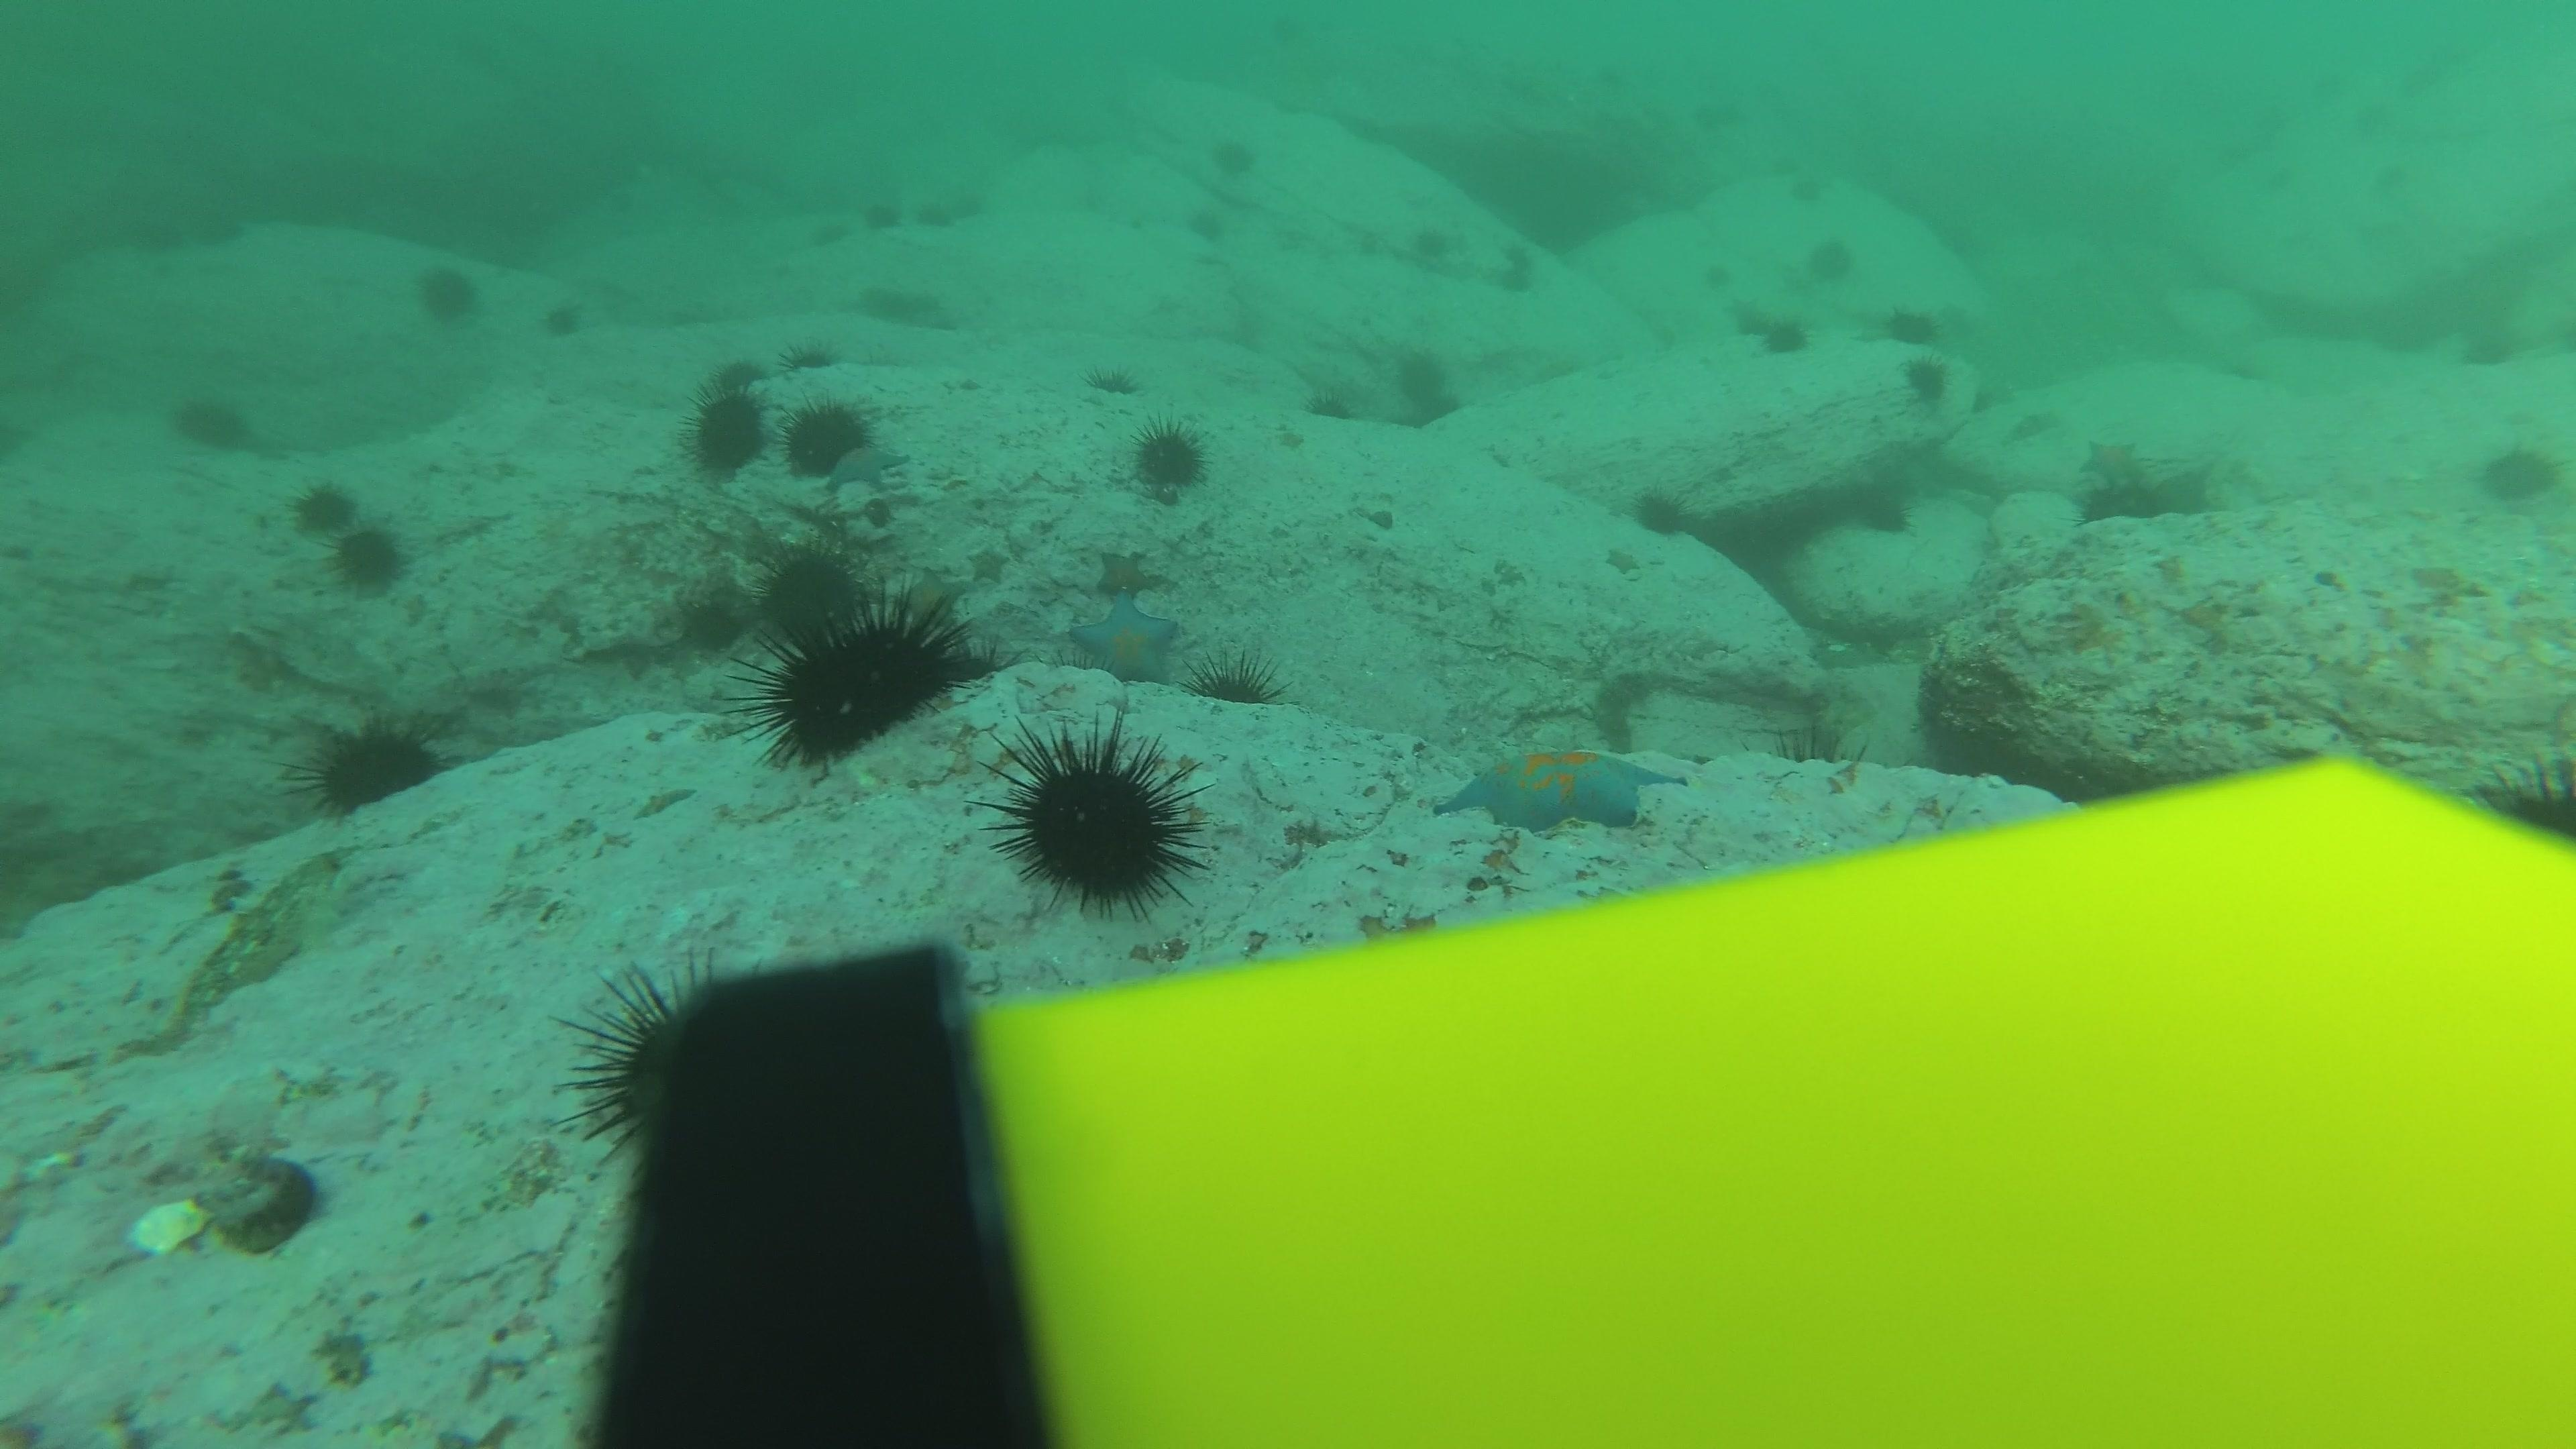echinus: (568, 955, 777, 1168), (741, 587, 975, 770), (991, 722, 1203, 916), (297, 713, 446, 819), (311, 494, 410, 594), (757, 545, 862, 640), (681, 375, 770, 479), (780, 393, 876, 479), (288, 476, 375, 564), (1125, 416, 1210, 501), (2473, 435, 2562, 511), (2456, 322, 2544, 398), (1387, 345, 1463, 428), (168, 386, 255, 456), (1194, 648, 1281, 711), (410, 258, 485, 327), (1628, 483, 1690, 540), (2348, 92, 2410, 145), (2362, 147, 2422, 200), (2390, 58, 2450, 111), (2240, 147, 2300, 200), (2309, 67, 2371, 119), (1799, 234, 1861, 285), (1898, 354, 1953, 410), (1753, 310, 1813, 361), (2243, 78, 2304, 129), (2222, 108, 2282, 159), (708, 352, 768, 396), (782, 338, 840, 382), (524, 294, 582, 338), (1210, 133, 1261, 179), (1304, 389, 1355, 435), (1182, 205, 1233, 249), (1083, 359, 1134, 403), (810, 216, 853, 253), (947, 189, 989, 226), (855, 202, 899, 237), (911, 200, 954, 235), (1785, 175, 1831, 205), (1771, 150, 1817, 180), (1408, 225, 1454, 255), (1739, 313, 1785, 343), (1499, 269, 1536, 297)
starfish: (1433, 736, 1698, 842), (1069, 593, 1184, 686), (892, 552, 978, 633), (2079, 433, 2150, 499), (1838, 479, 1911, 541), (828, 441, 908, 492), (1092, 543, 1152, 600), (966, 538, 1016, 586), (1601, 538, 1642, 584), (1497, 237, 1529, 265), (1723, 292, 1755, 318)
